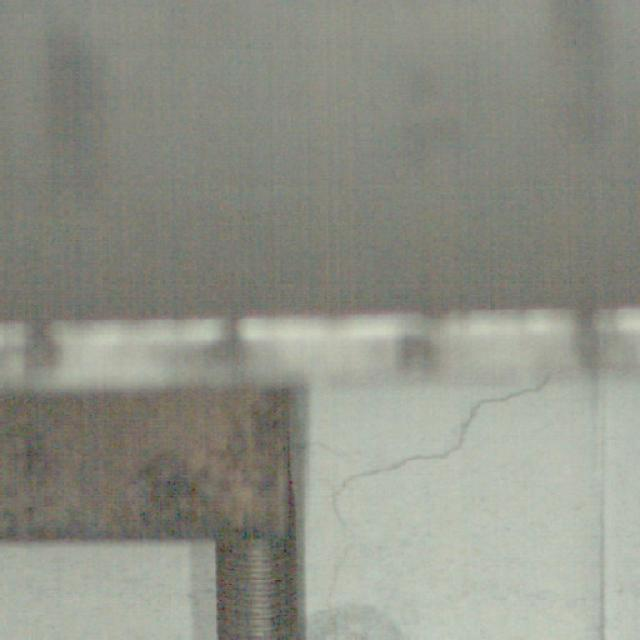Network: (310, 378, 556, 640)
